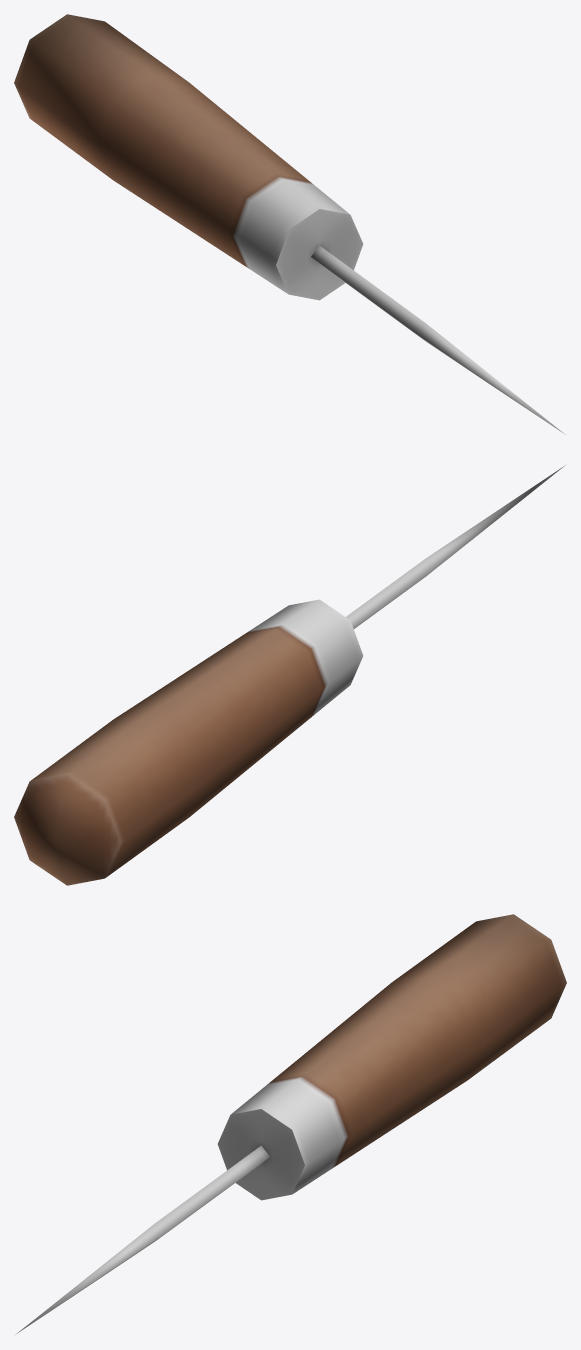
File: jsf_Awl_01.fbx
The picture shows the model from 3 angles, top to bottom: view 1: azimuth 30°, elevation 25°; view 2: azimuth 150°, elevation 25°; view 3: azimuth 330°, elevation 25°; orthographic projection.
Visible parts, largest first — view 1: jsf_Awl_01; view 2: jsf_Awl_01; view 3: jsf_Awl_01.
Boxes of the visible parts, box(x1,y1,x2,y2) form: jsf_Awl_01: box(14, 14, 565, 434); jsf_Awl_01: box(14, 465, 565, 885); jsf_Awl_01: box(15, 914, 566, 1334).
Size of the model in its own units: 2.46 by 2.46 by 20.27.
